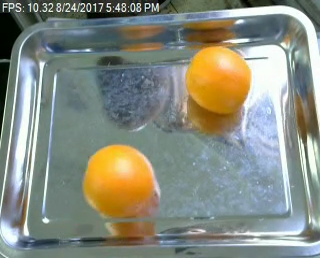Orange: (82, 143, 155, 218), (185, 45, 252, 115)
